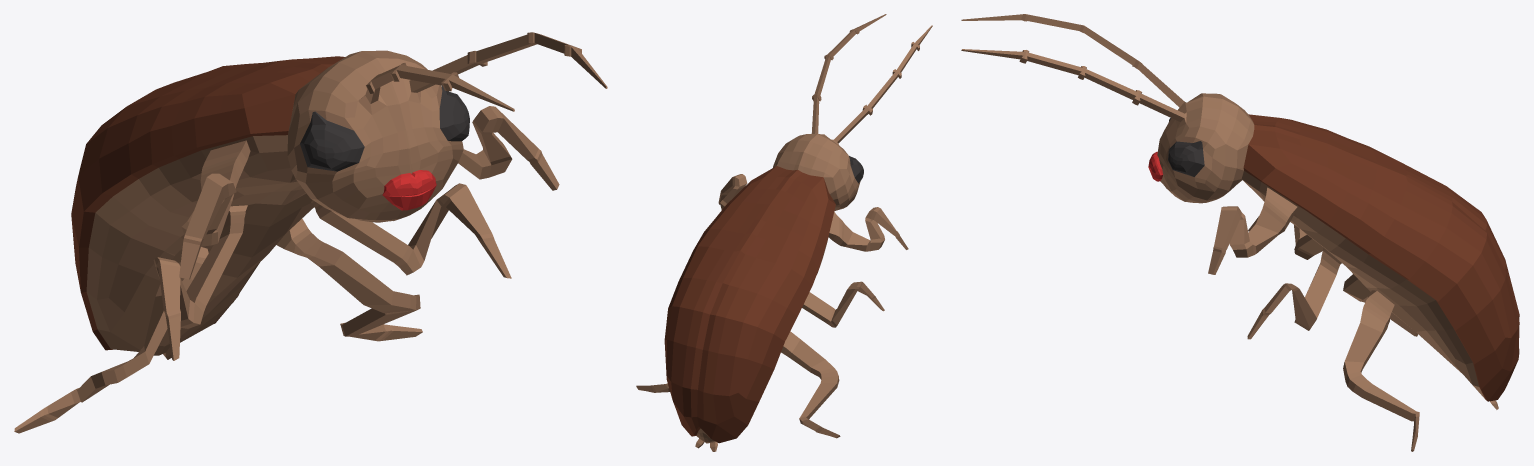
The model's file is 3DObj_Female_V1.fbx.
3 views of the same model, side by side, from view 1: azimuth 30°, elevation 25°; view 2: azimuth 150°, elevation 25°; view 3: azimuth 270°, elevation 25° (orthographic). The views are drawn at different scales.
Parts seen in each view (by area): view 1: body; view 2: body; view 3: body.
Boxes of the visible parts, x1,y1,x2,y2 form: body: (14, 32, 607, 433); body: (636, 14, 932, 451); body: (961, 14, 1519, 451).
Size of the model in its own units: 32.74 by 43.42 by 58.9.
